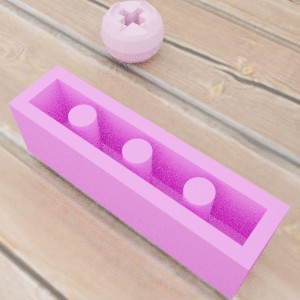lego: (8, 65, 290, 300), (100, 0, 164, 63)
